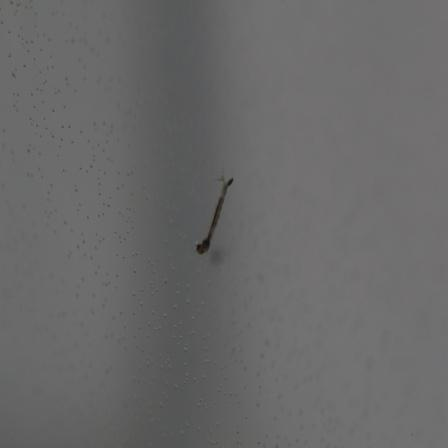Jentik-Nyamuk: (191, 171, 236, 262)
